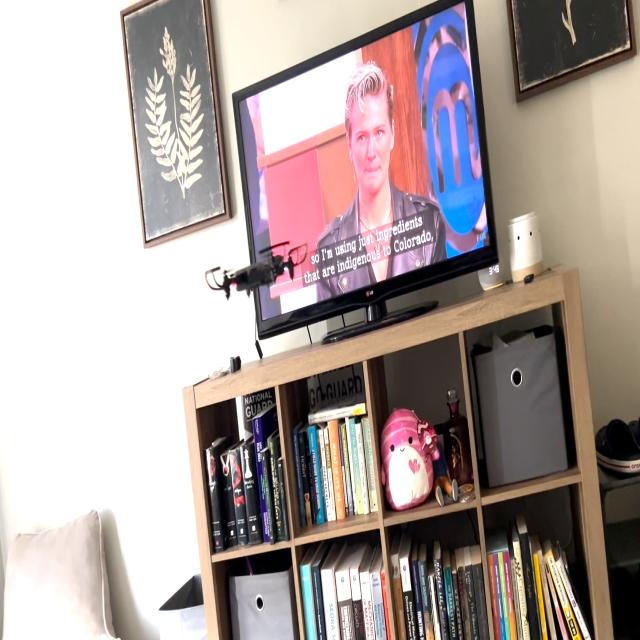drone: (196, 227, 314, 308)
